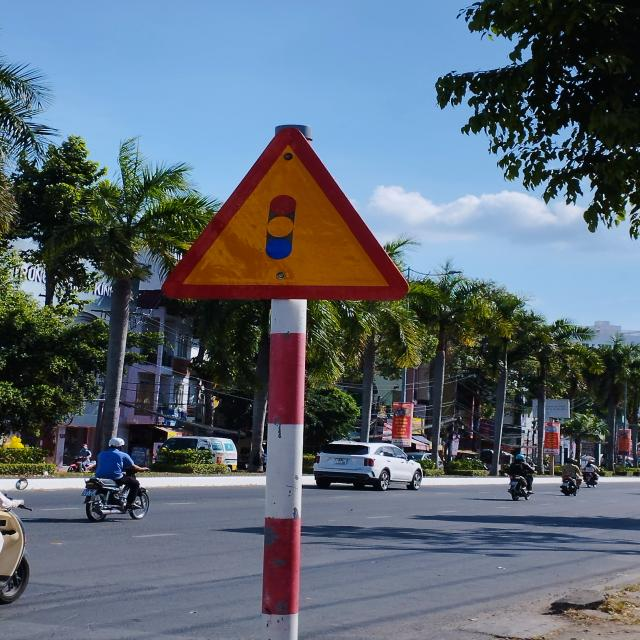Duong_Co_Go_Giam_Toc: (160, 124, 408, 301)
